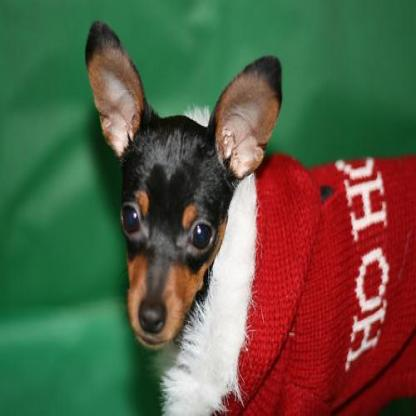miniature_pinscher: (84, 16, 414, 414)
